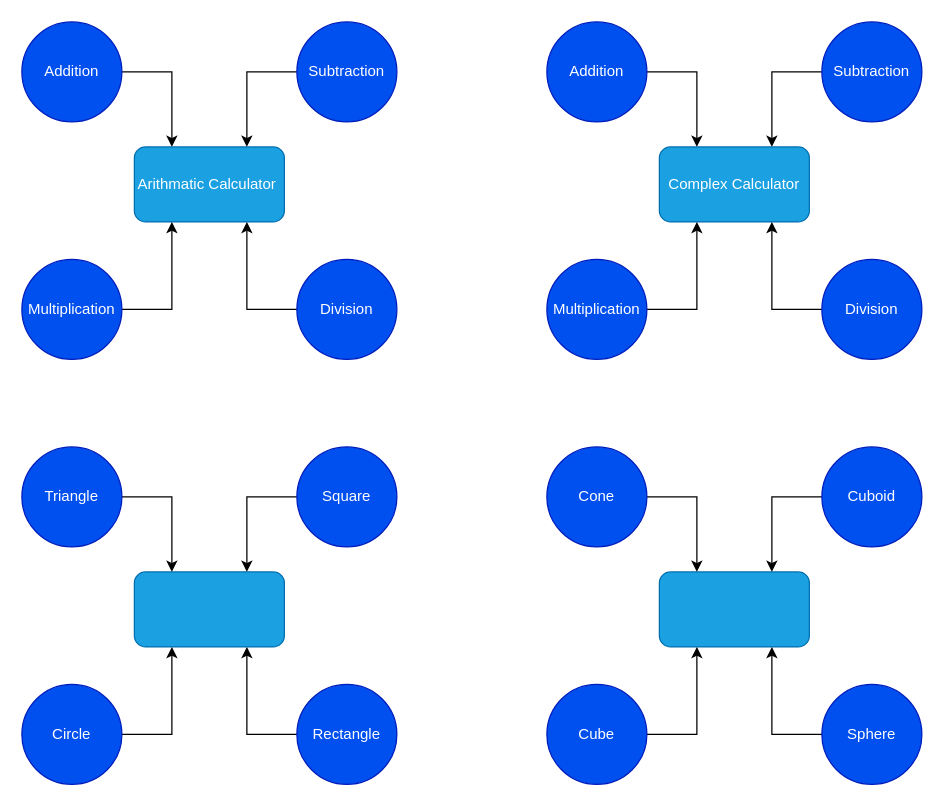
Image size: 944x806. Some labels were removed from this diagram. Here are the shapes that lost their labels. From the top down, the centre of each, then its label:
the point at 208,609: Area
the point at 733,609: Volume
